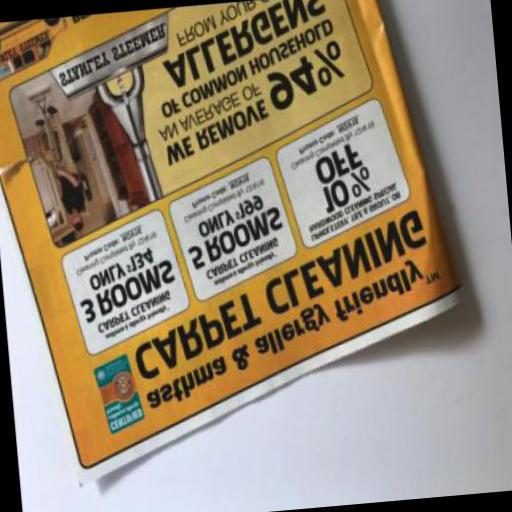paper: (0, 0, 475, 493)
